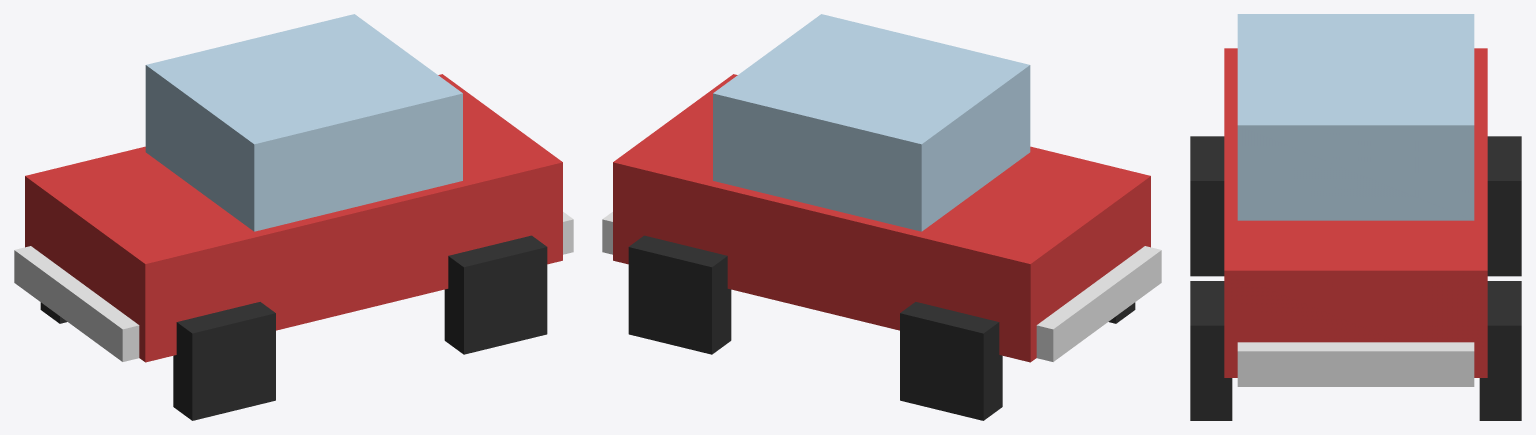
The model's file is SurfaceCar.gltf.
The picture shows the model from 3 angles, left to right: view 1: azimuth 30°, elevation 25°; view 2: azimuth 150°, elevation 25°; view 3: azimuth 270°, elevation 25°; orthographic projection. The views are drawn at different scales.
Visible parts, largest first — view 1: SurfaceCar; view 2: SurfaceCar; view 3: SurfaceCar.
Boxes of the visible parts, left/top/right/bottom form: SurfaceCar: left=14, top=14, right=573, bottom=420; SurfaceCar: left=602, top=14, right=1161, bottom=420; SurfaceCar: left=1190, top=14, right=1521, bottom=420.
Size of the model in its own units: 2.16 by 1.1 by 1.26.
